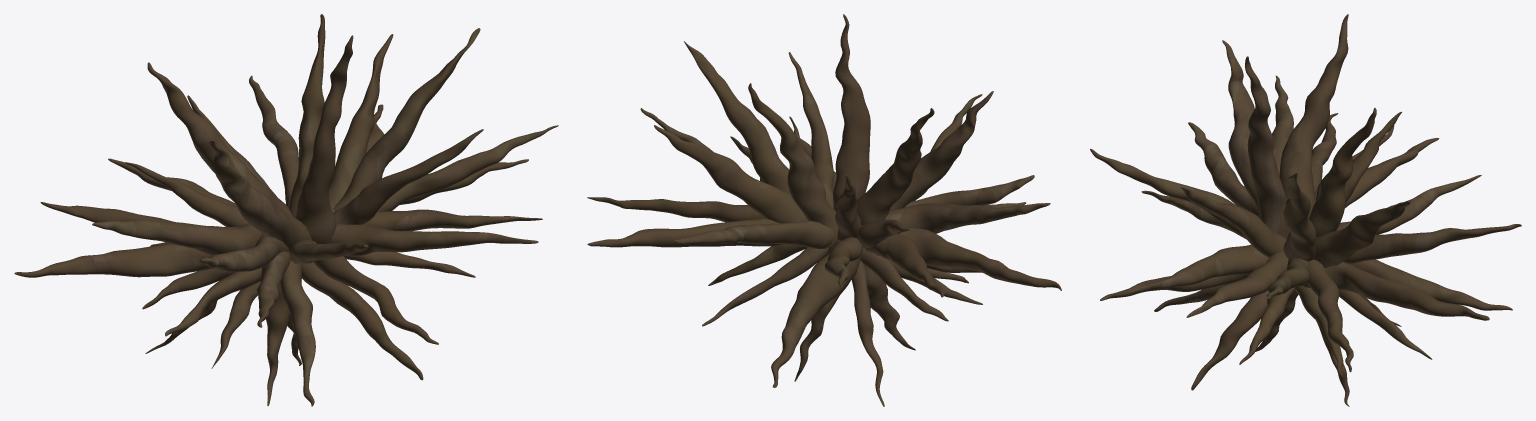
File: ItemsMode_04_clayspikes_sm.glb
The picture shows the model from 3 angles, left to right: view 1: azimuth 30°, elevation 25°; view 2: azimuth 150°, elevation 25°; view 3: azimuth 270°, elevation 25°; orthographic projection. The views are drawn at different scales.
Visible parts, largest first — view 1: clayspikes_sm; view 2: clayspikes_sm; view 3: clayspikes_sm.
Boxes of the visible parts, box(x1,y1,x2,y2) form: clayspikes_sm: box(14, 14, 558, 406); clayspikes_sm: box(587, 14, 1061, 406); clayspikes_sm: box(1090, 14, 1521, 406).
Size of the model in its own units: 1.65 by 1.12 by 1.25.
1 material, 1 textured.
